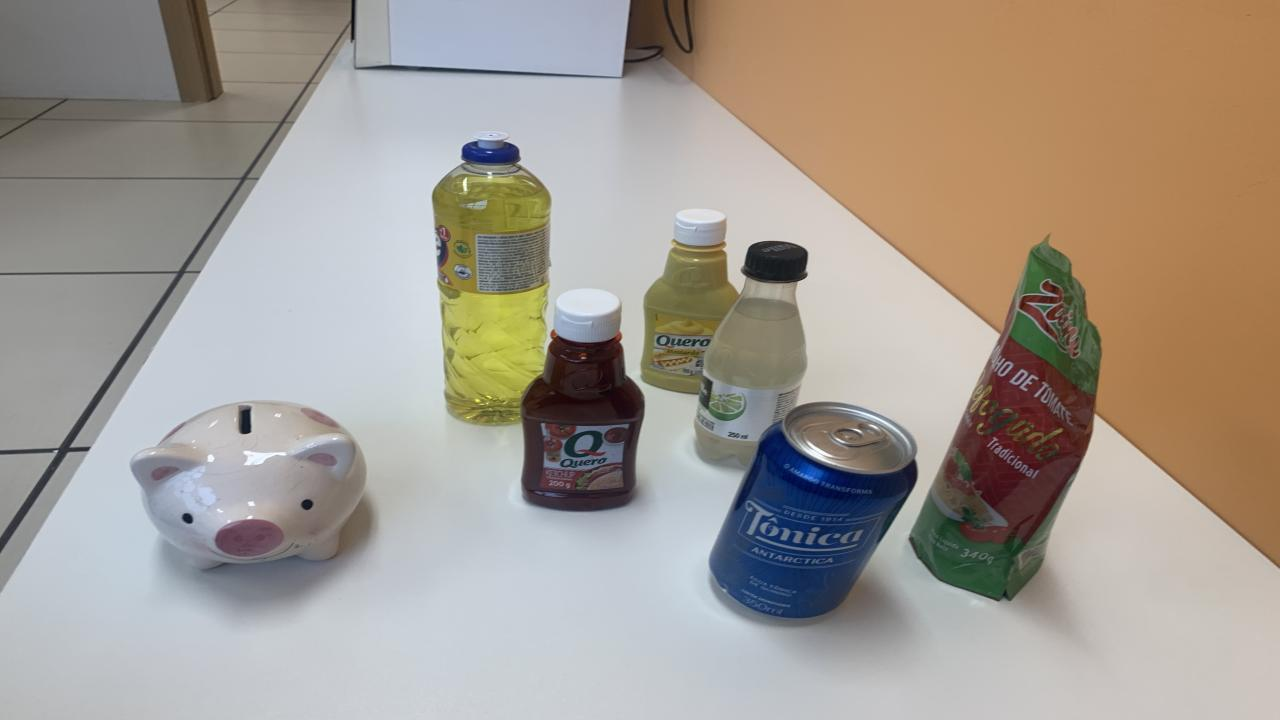Detergent-Cleanup_Items: (432, 131, 550, 426)
Ketchup-Pantry_Items: (520, 289, 645, 510)
Mustard-Pantry_Items: (640, 210, 738, 394)
Pig_Safe-Miscellaneous: (130, 401, 365, 568)
Soda-Drinks: (695, 242, 808, 463)
Tomato_Sauce-Pantry_Items: (910, 240, 1100, 598)
Tonic-Drinks: (710, 401, 918, 617)
